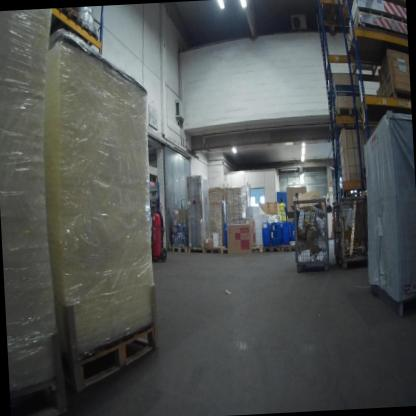pallet: (67, 310, 171, 398), (9, 358, 69, 416), (350, 0, 406, 33), (316, 0, 346, 31), (75, 18, 104, 47), (52, 8, 85, 30), (201, 241, 225, 257), (171, 241, 188, 255), (262, 241, 281, 253), (279, 240, 294, 255), (251, 242, 265, 254), (220, 244, 231, 256)
stillage: (332, 192, 376, 280), (288, 190, 333, 273)
